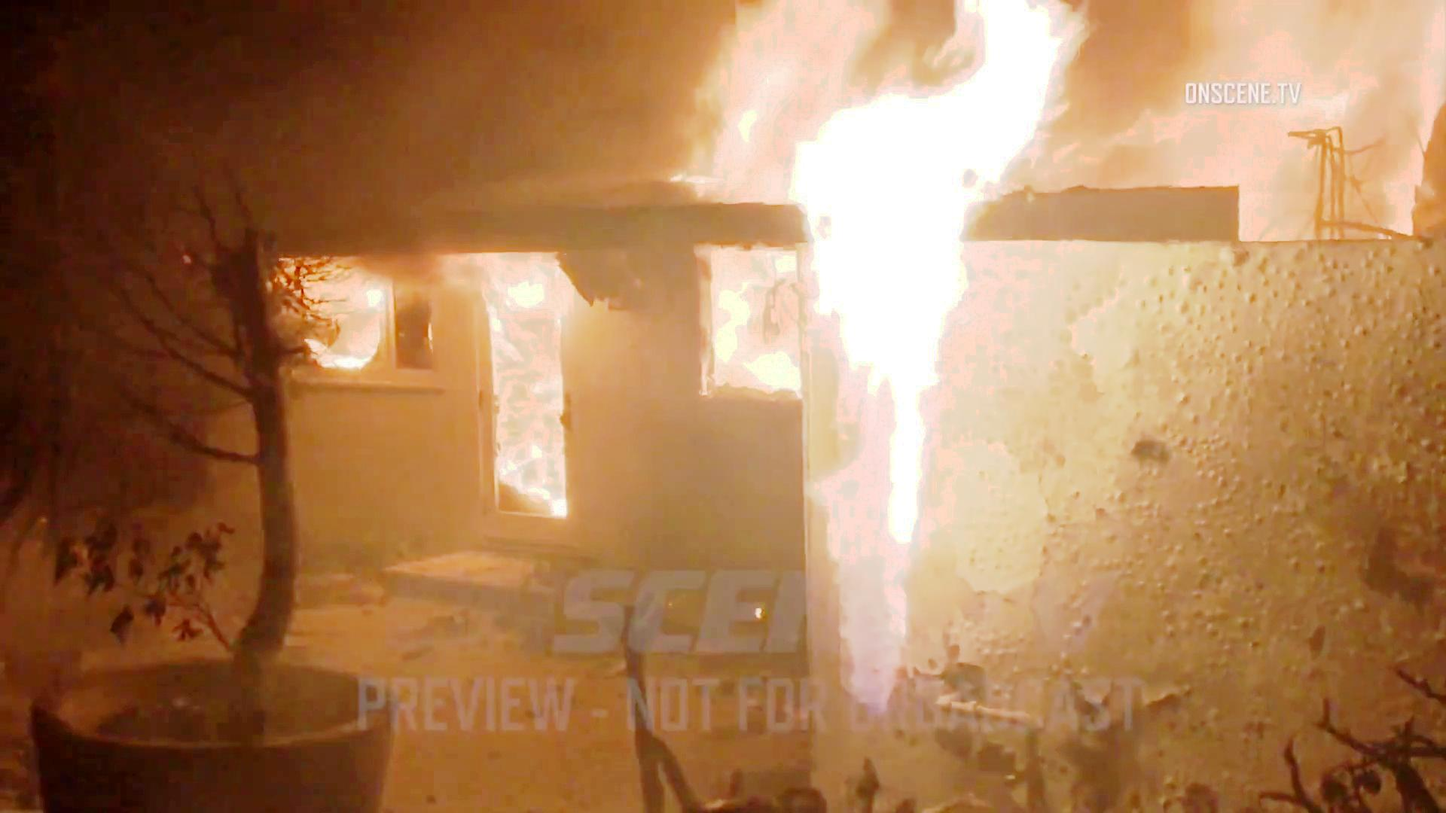fire: (714, 17, 999, 363), (492, 275, 585, 496), (300, 251, 383, 360)
